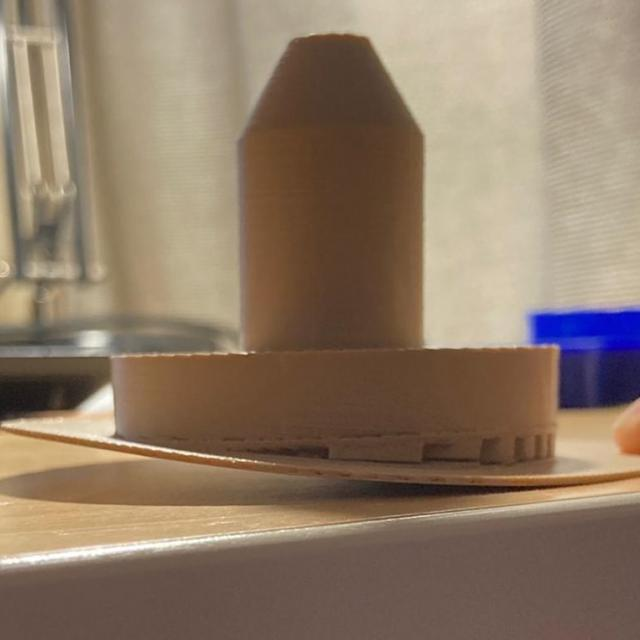Warping: (89, 424, 250, 476)
